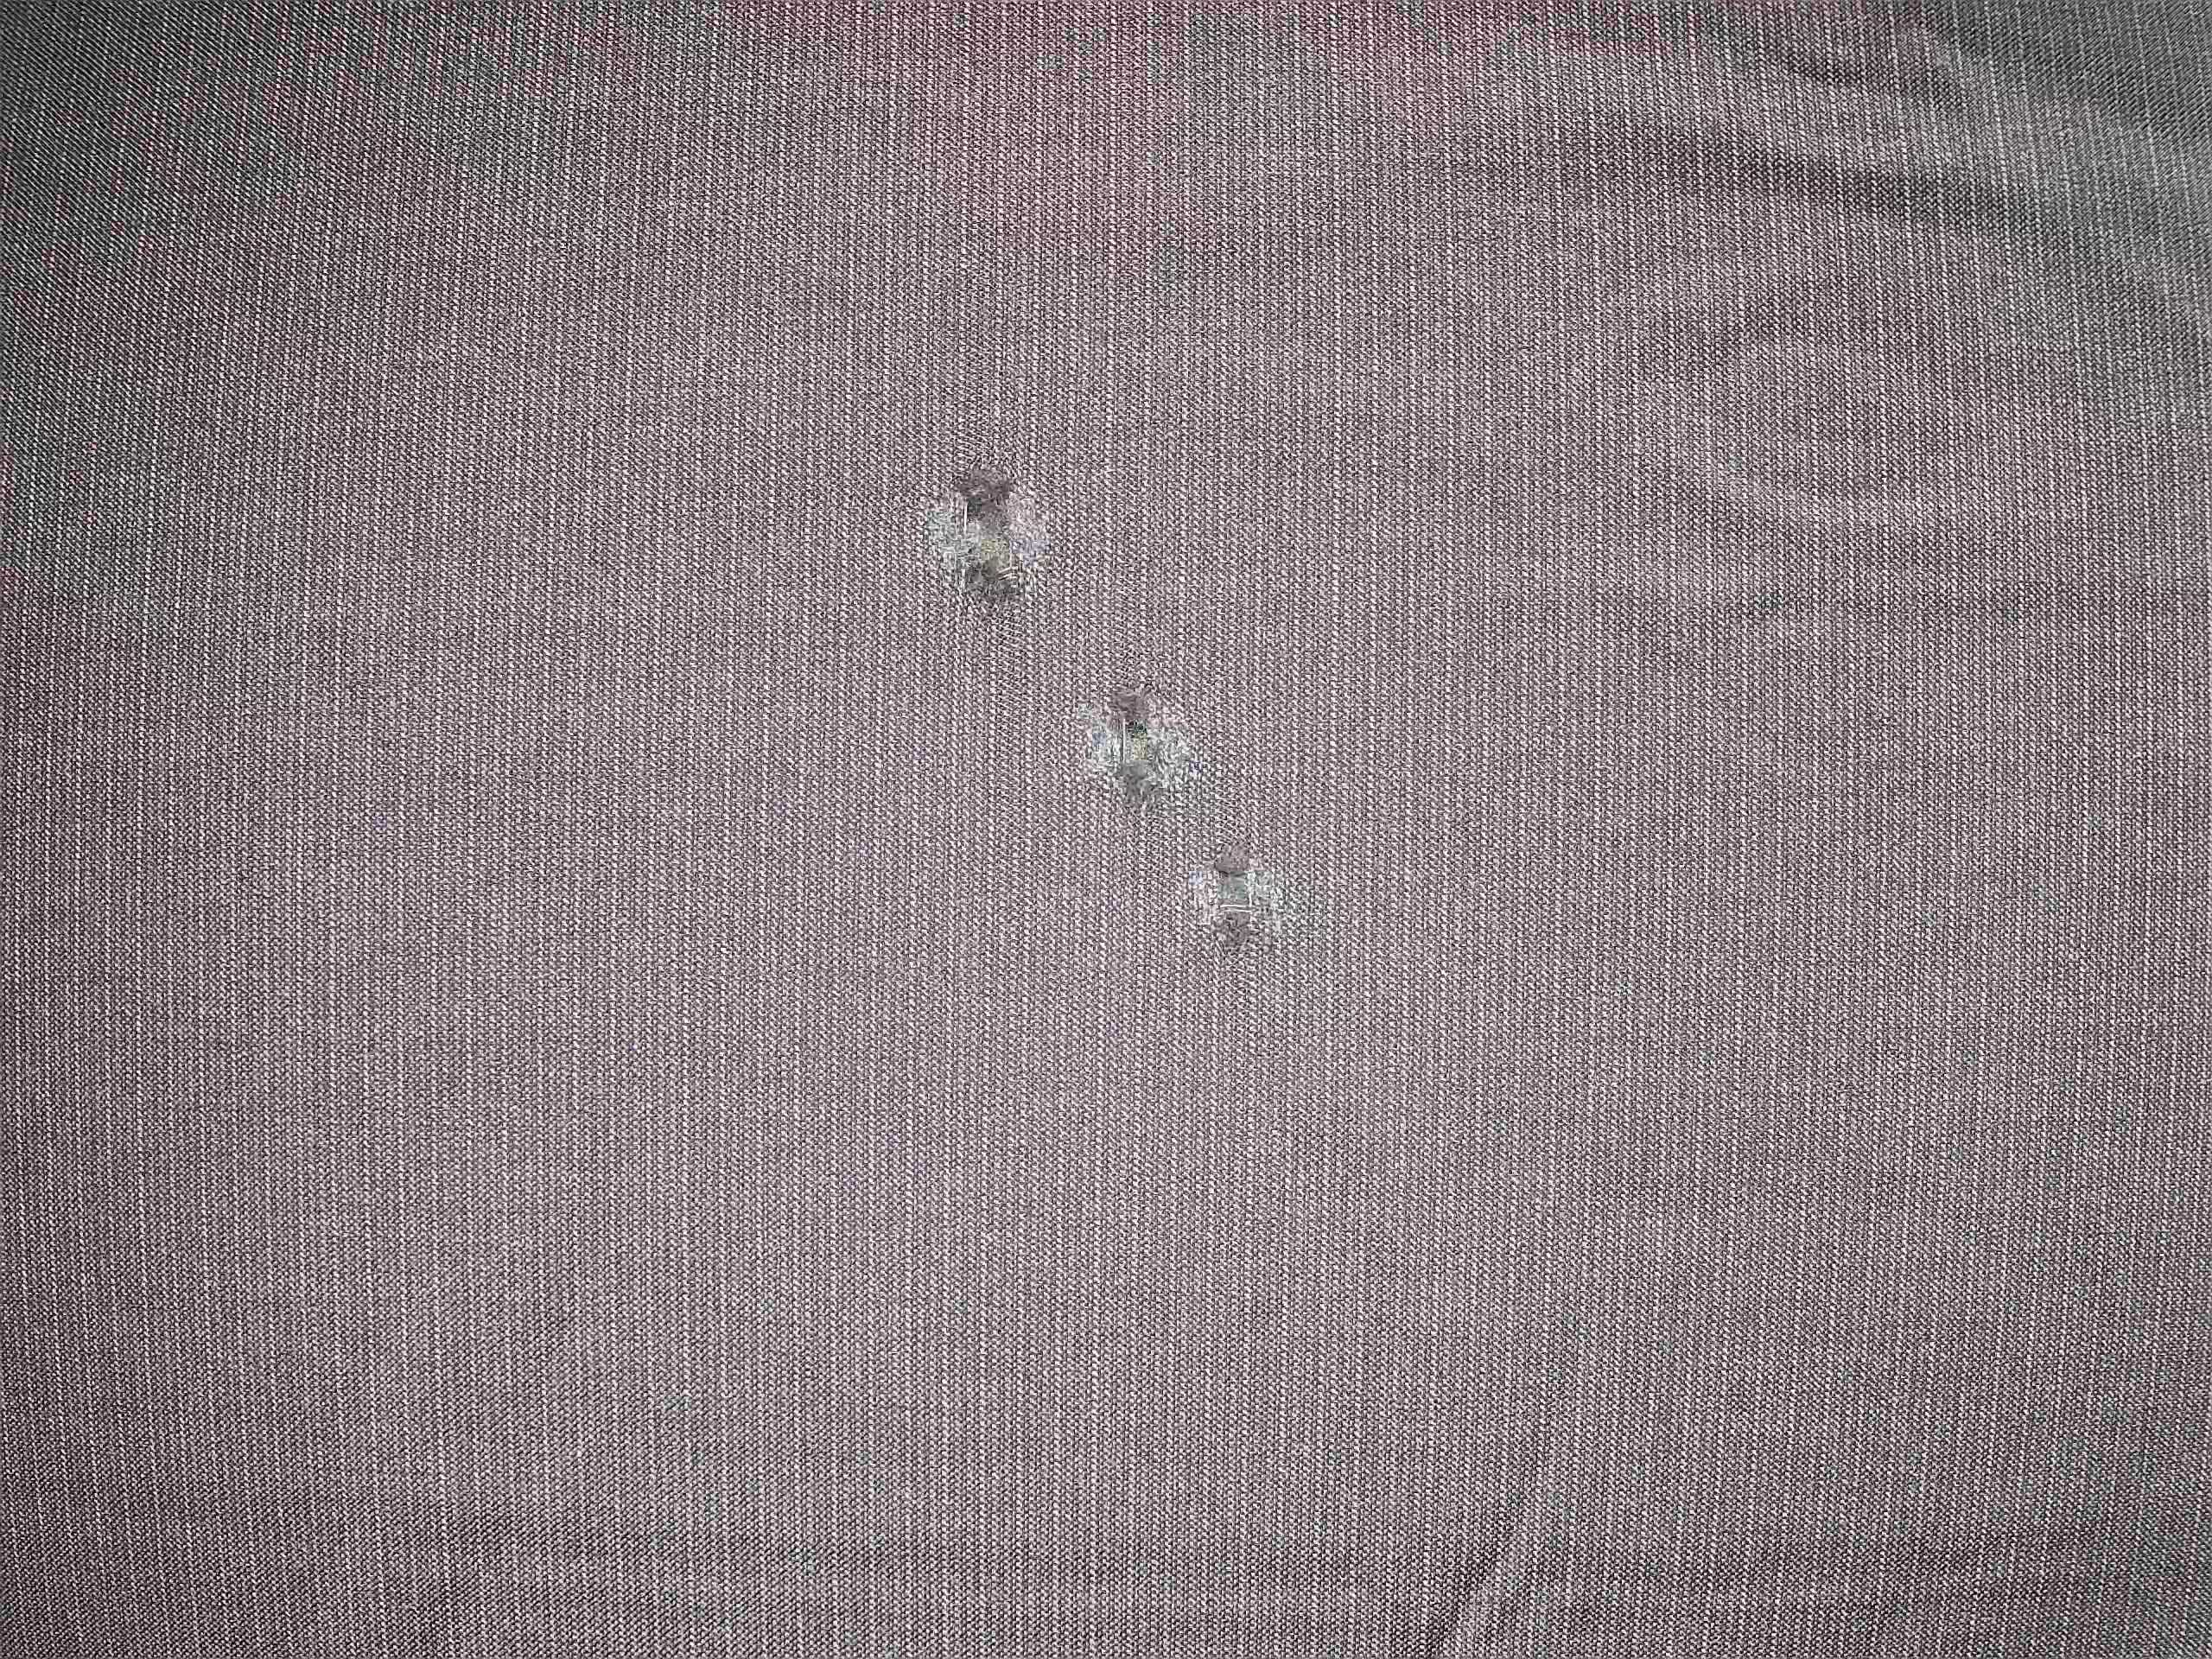rubbing-hole: (916, 455, 1066, 620), (1068, 673, 1212, 814), (1172, 835, 1298, 964)
